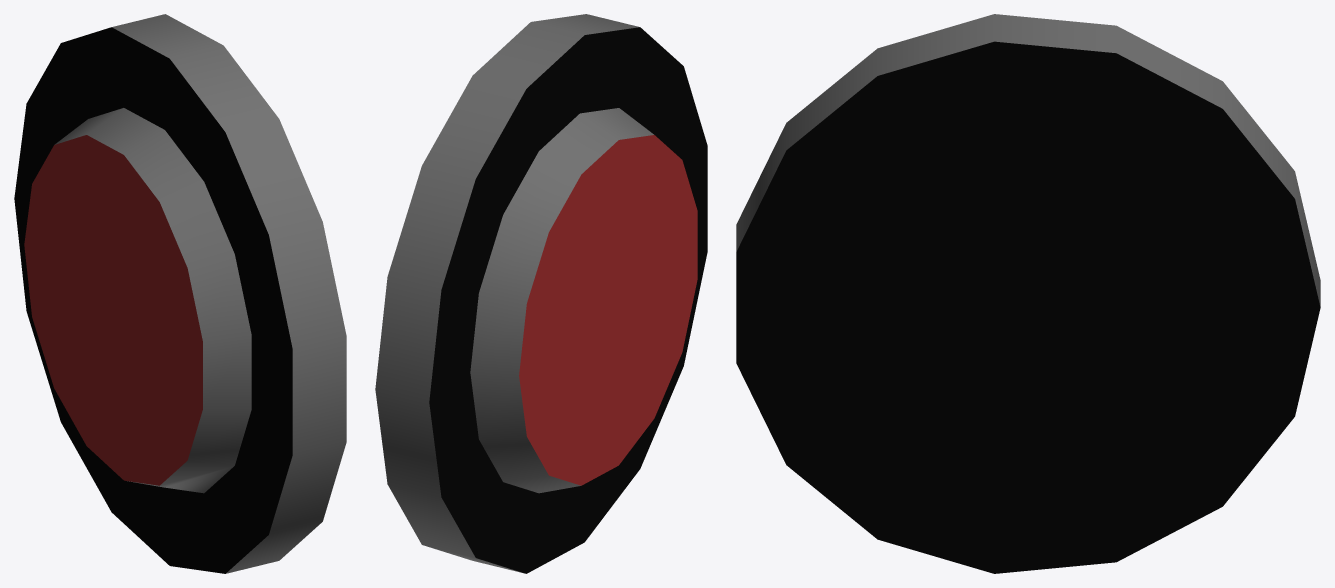
The model's file is Laser.fbx.
3 renders of one model, left to right at view 1: azimuth 30°, elevation 25°; view 2: azimuth 150°, elevation 25°; view 3: azimuth 270°, elevation 25°, orthographic. The views are drawn at different scales.
Visible parts, largest first — view 1: pCylinder134; view 2: pCylinder134; view 3: pCylinder134.
Boxes of the visible parts, x1,y1,x2,y2 form: pCylinder134: (14, 14, 346, 573); pCylinder134: (375, 14, 707, 573); pCylinder134: (736, 14, 1320, 573).
Size of the model in its own units: 0.2439 by 1.26 by 1.25.
